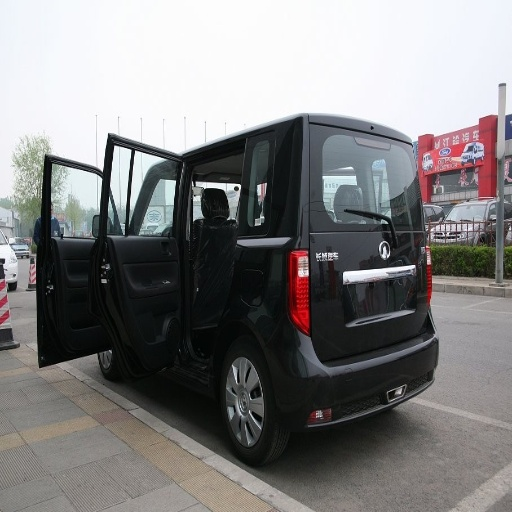back_bumper: (272, 305, 440, 428)
back_left_light: (286, 248, 311, 335)
tailgate: (310, 221, 416, 351)
trunk: (127, 248, 263, 366)
